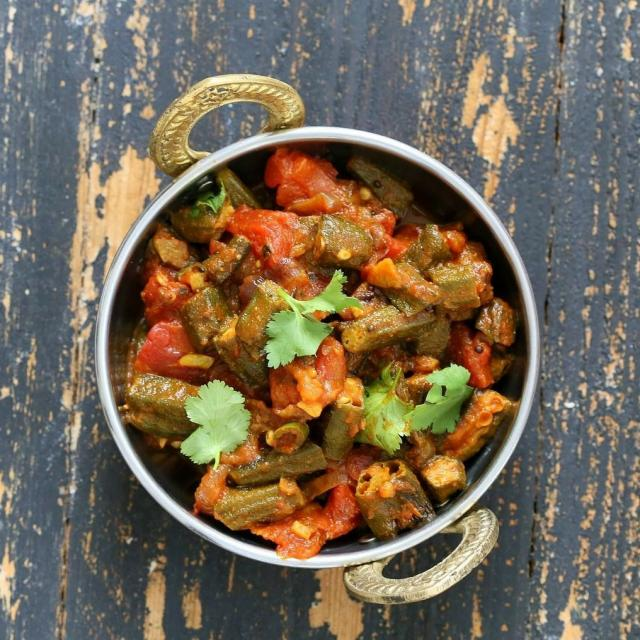BhindiMasala: (122, 152, 515, 558)
